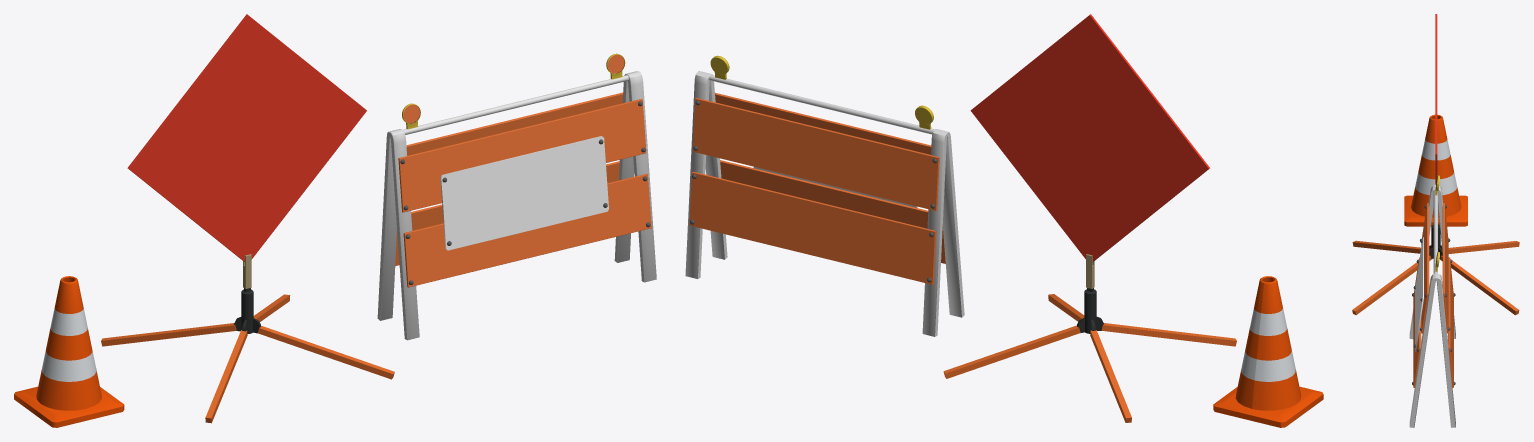
The picture shows the model from 3 angles, left to right: view 1: azimuth 30°, elevation 25°; view 2: azimuth 150°, elevation 25°; view 3: azimuth 270°, elevation 25°; orthographic projection. The views are drawn at different scales.
Visible parts, largest first — view 1: pCube17.003, polySurface35, polySurface35.003, polySurface35.002, pCylinder2, pCube17, pCylinder2.001, pCylinder2.002, pCube17.001; view 2: polySurface35, pCube17.003, polySurface35.002, pCylinder2, pCube17, pCylinder2.001, pCylinder2.002, pCube17.001, polySurface35.004; view 3: polySurface35.002, polySurface35, pCube17, pCylinder2, pCylinder2.001, pCylinder2.002, polySurface35.003, pCube17.003, pCube17.001, polySurface35.001.
Boxes of the visible parts, x1,y1,x2,y2 form: pCube17.003: [127, 14, 366, 261]; polySurface35: [395, 92, 651, 287]; polySurface35.003: [440, 136, 608, 250]; polySurface35.002: [377, 71, 656, 340]; pCylinder2: [36, 276, 101, 410]; pCube17: [101, 294, 394, 423]; pCylinder2.001: [42, 308, 96, 381]; pCylinder2.002: [14, 386, 124, 427]; pCube17.001: [234, 288, 260, 333]; polySurface35: [689, 92, 945, 284]; pCube17.003: [970, 14, 1209, 261]; polySurface35.002: [685, 71, 964, 336]; pCylinder2: [1235, 276, 1301, 410]; pCube17: [943, 294, 1236, 422]; pCylinder2.001: [1241, 308, 1295, 381]; pCylinder2.002: [1213, 386, 1323, 427]; pCube17.001: [1077, 288, 1103, 333]; polySurface35.004: [710, 55, 933, 129]; polySurface35.002: [1409, 184, 1455, 427]; polySurface35: [1413, 202, 1453, 387]; pCube17: [1352, 240, 1519, 315]; pCylinder2: [1411, 114, 1461, 217]; pCylinder2.001: [1415, 139, 1457, 195]; pCylinder2.002: [1404, 195, 1467, 226]; polySurface35.003: [1415, 237, 1423, 351]; pCube17.003: [1435, 14, 1437, 184]; pCube17.001: [1429, 224, 1442, 259]; polySurface35.001: [1412, 204, 1455, 385].
Size of the model in its own units: 2 by 1.1 by 0.6253.
